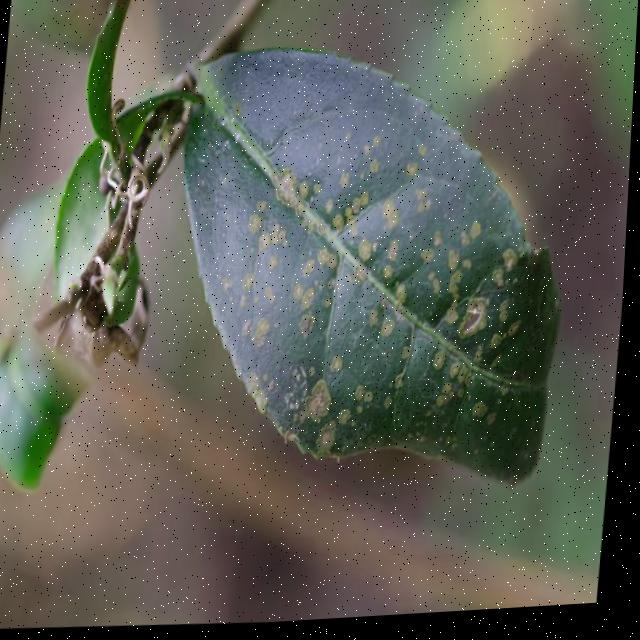Tea algae leaf spot: (194, 124, 582, 479)
